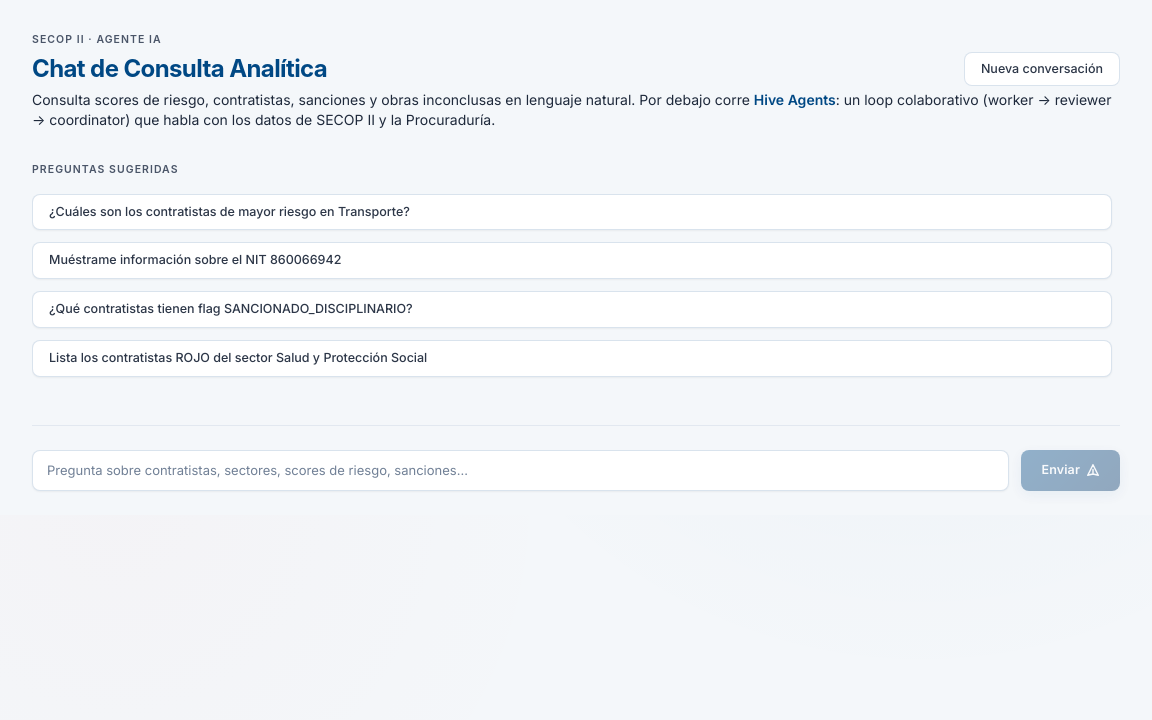
Test: ChatPage: markdown, reasoning y datos › renderiza markdown en la respuesta del asistente
This screenshot has width=1152, height=720.
Replace the text in the field with placeholder "Pregunta sobre contratistas" with "hola" at (521, 470), box [32, 450, 1010, 491]
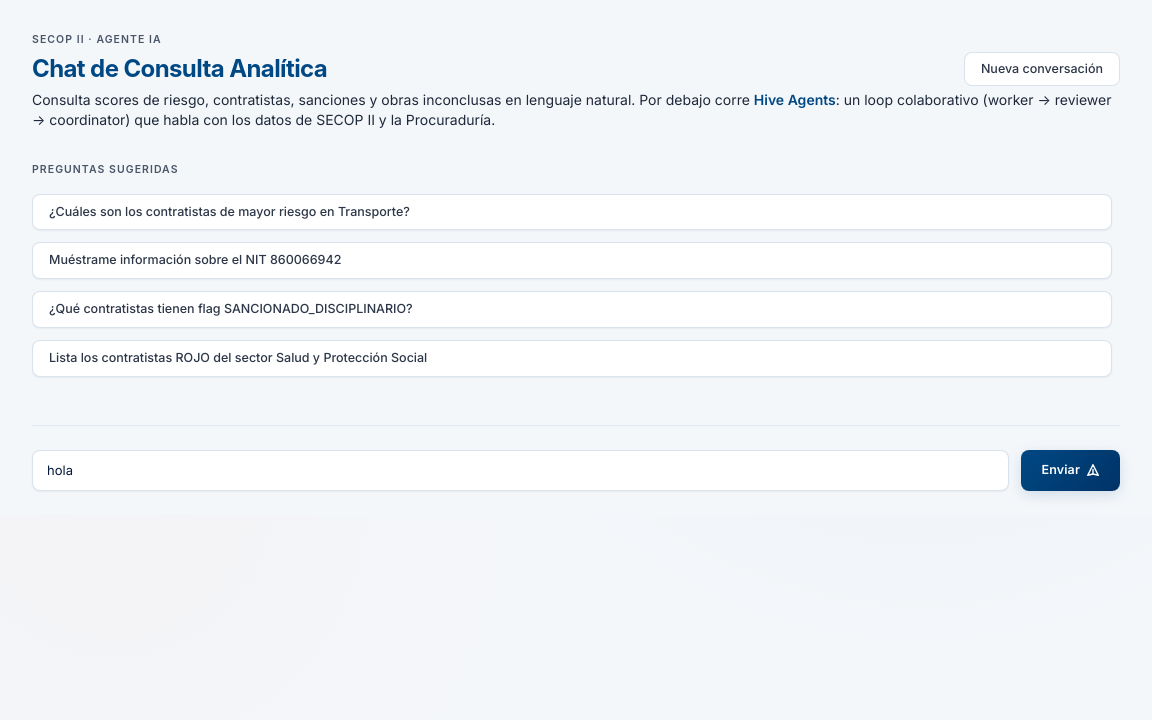
Click the button "Enviar" at (1071, 470), box [1022, 450, 1120, 491]
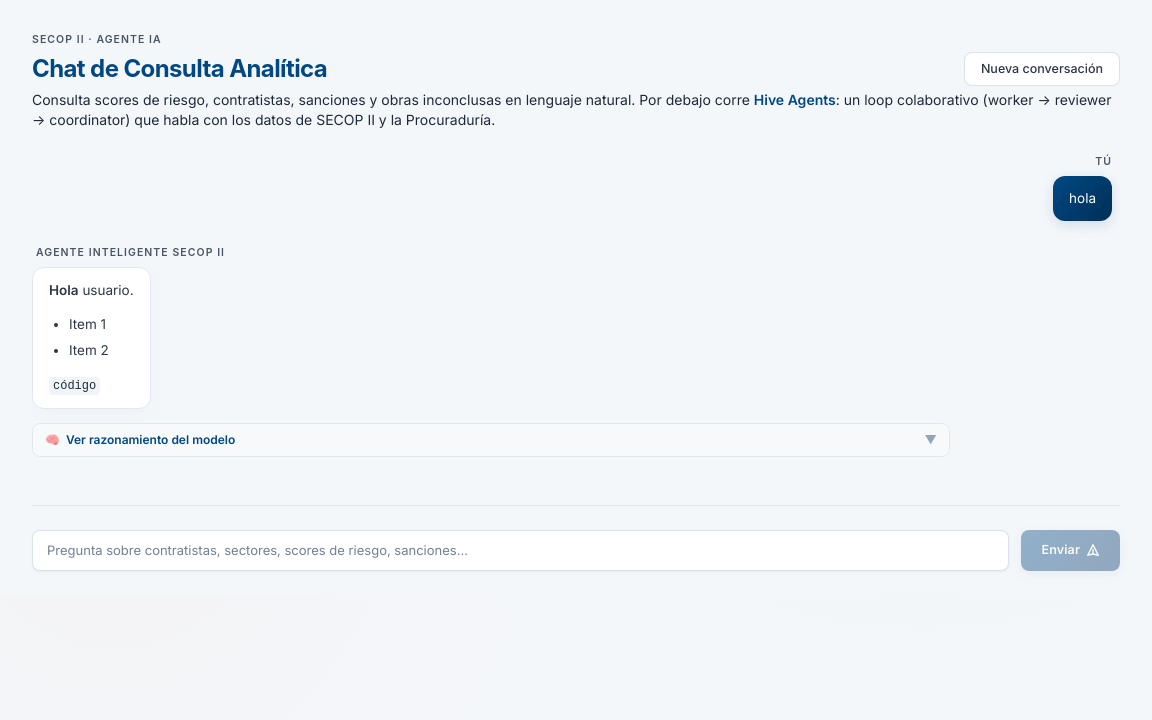
Expected: the text "Hola" is shown, [49, 282, 79, 298]
Expected: the list item "Item 1" is shown, [69, 316, 106, 332]
Expected: the list item "Item 2" is shown, [69, 342, 109, 358]
